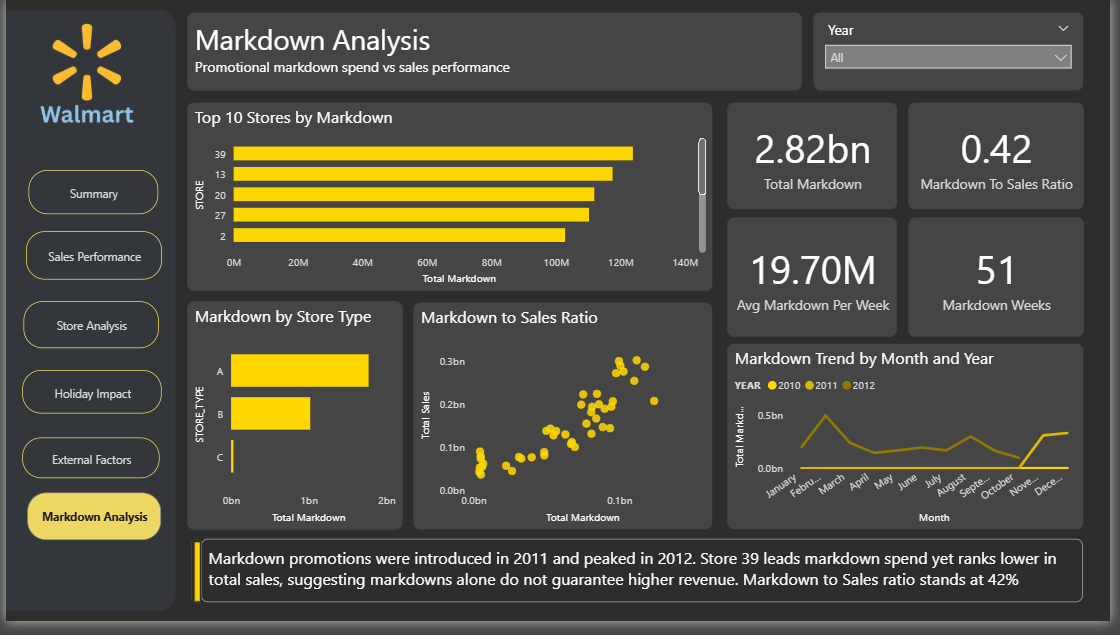

This screenshot's page, from the dashboard's own definition file:
{"tool":"powerbi","page":{"name":"6.Markdown Analysis","canvas":[1280,720],"ordinal":5},"visuals":[{"type":"card","fields":{"Values":["WALMART_CLEAN.Total Markdown"]},"box":[836.6,118.3,197.2,123.9],"z":0},{"type":"card","fields":{"Values":["WALMART_CLEAN.Markdown To Sales Ratio"]},"box":[1046.5,118.3,202.8,123.9],"z":1000},{"type":"card","fields":{"Values":["WALMART_CLEAN.Markdown Weeks"]},"box":[1046.5,252.1,202.8,138],"z":2000},{"type":"card","fields":{"Values":["WALMART_CLEAN.Avg Markdown Per Week"]},"box":[836.6,252.1,197.2,138],"z":3000},{"type":"clusteredBarChart","title":"Top 10 Stores by Markdown","fields":{"Category":["WALMART_CLEAN.STORE"],"Y":["WALMART_CLEAN.Total Markdown"]},"box":[209.9,118.3,608.5,218.3],"z":4000},{"type":"lineChart","title":"Markdown Trend by Month and Year","fields":{"Category":["WALMART_CLEAN.SALE_DATE.Variation.Date Hierarchy.Month"],"Y":["WALMART_CLEAN.Total Markdown"],"Series":["WALMART_CLEAN.YEAR"]},"box":[836.6,398.6,412.7,215.5],"z":5000},{"type":"scatterChart","title":"Markdown to Sales Ratio","fields":{"X":["WALMART_CLEAN.Total Markdown"],"Y":["WALMART_CLEAN.Total Sales"],"Category":["WALMART_CLEAN.STORE"]},"box":[471.8,350.7,346.5,263.4],"z":6000},{"type":"clusteredBarChart","title":"Markdown by Store Type","fields":{"Category":["WALMART_CLEAN.STORE_TYPE"],"Y":["WALMART_CLEAN.Total Markdown"]},"box":[209.9,349.3,249.3,264.8],"z":7000},{"type":"slicer","fields":{"Values":["WALMART_CLEAN.SALE_DATE.Variation.Date Hierarchy.Year"]},"box":[936.6,14.1,312.7,90.1],"z":8000},{"type":"textbox","box":[209.9,14.1,712.7,90.1],"z":9000},{"type":"actionButton","title":"Overview","box":[22.5,267.6,157.7,56.3],"z":10000},{"type":"actionButton","box":[20.3,348.6,156.8,54.1],"z":12000},{"type":"actionButton","box":[18.3,429.6,162,50.7],"z":13000},{"type":"actionButton","box":[18.9,506.8,159.5,47.3],"z":14000},{"type":"actionButton","box":[25.4,570.4,154.9,54.9],"z":15000},{"type":"actionButton","box":[25.7,197.3,150,51.4],"z":16000},{"type":"textbox","box":[226.8,625.4,1022.5,73.2],"z":18000},{"type":"shape","box":[214.1,623.9,12.7,74.6],"z":19000}]}

Visuals, with their boxes in screenshot pixels (x1, y1, x2, y2), scaled from the page's 1280x720 canvas onto the 1120x635 screenshot:
card - WALMART_CLEAN.Total Markdown: <bbox>732, 104, 905, 214</bbox>
card - WALMART_CLEAN.Markdown To Sales Ratio: <bbox>916, 104, 1093, 214</bbox>
card - WALMART_CLEAN.Markdown Weeks: <bbox>916, 222, 1093, 344</bbox>
card - WALMART_CLEAN.Avg Markdown Per Week: <bbox>732, 222, 905, 344</bbox>
"Top 10 Stores by Markdown" clusteredBarChart: <bbox>184, 104, 716, 297</bbox>
"Markdown Trend by Month and Year" lineChart: <bbox>732, 352, 1093, 542</bbox>
"Markdown to Sales Ratio" scatterChart: <bbox>413, 309, 716, 542</bbox>
"Markdown by Store Type" clusteredBarChart: <bbox>184, 308, 402, 542</bbox>
slicer - WALMART_CLEAN.SALE_DATE.Variation.Date Hierarchy.Year: <bbox>820, 12, 1093, 92</bbox>
textbox: <bbox>184, 12, 807, 92</bbox>
"Overview" actionButton: <bbox>20, 236, 158, 286</bbox>
actionButton: <bbox>18, 307, 155, 355</bbox>
actionButton: <bbox>16, 379, 158, 424</bbox>
actionButton: <bbox>17, 447, 156, 489</bbox>
actionButton: <bbox>22, 503, 158, 551</bbox>
actionButton: <bbox>22, 174, 154, 219</bbox>
textbox: <bbox>198, 552, 1093, 616</bbox>
shape: <bbox>187, 550, 198, 616</bbox>
